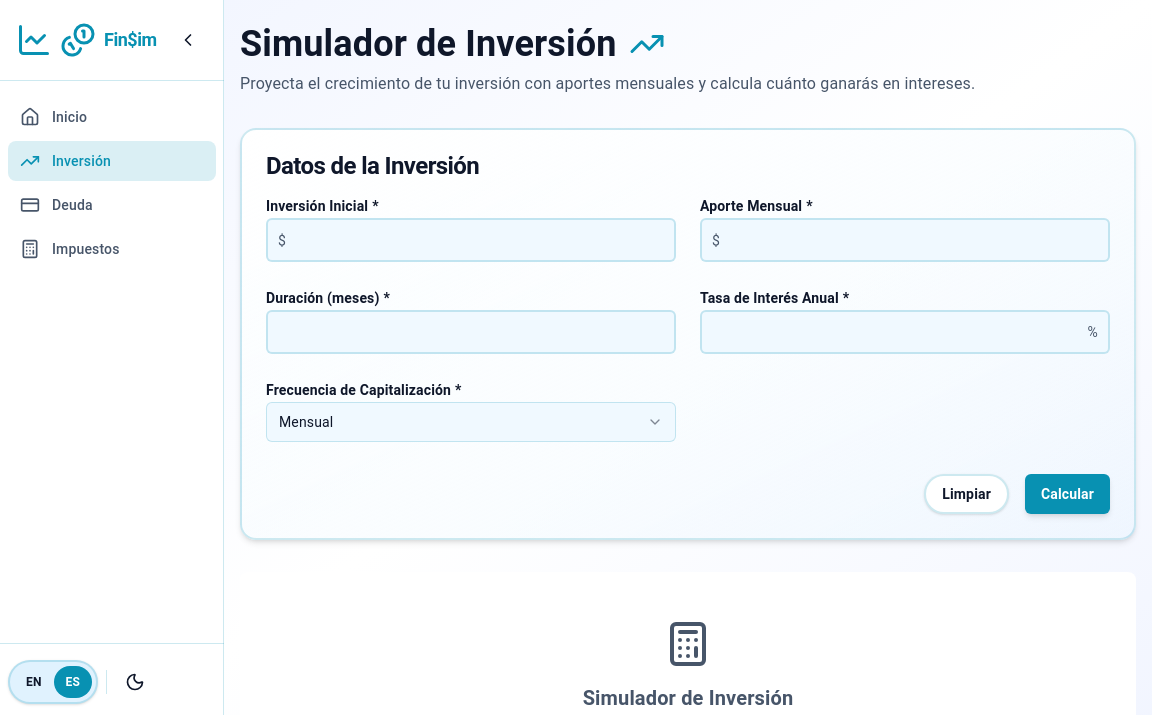
Scenario: Investment Flow Integration › calculates investment projection when user fills form and clicks calculate
The width and height of the screenshot is (1152, 715).
Expected: the 1st heading "Simulador de Inversión" is shown, [240,24,664,65]
Type "10000" into the number field labelled "Inversión Inicial*". click: (471,240)
box: [266,218,676,262]
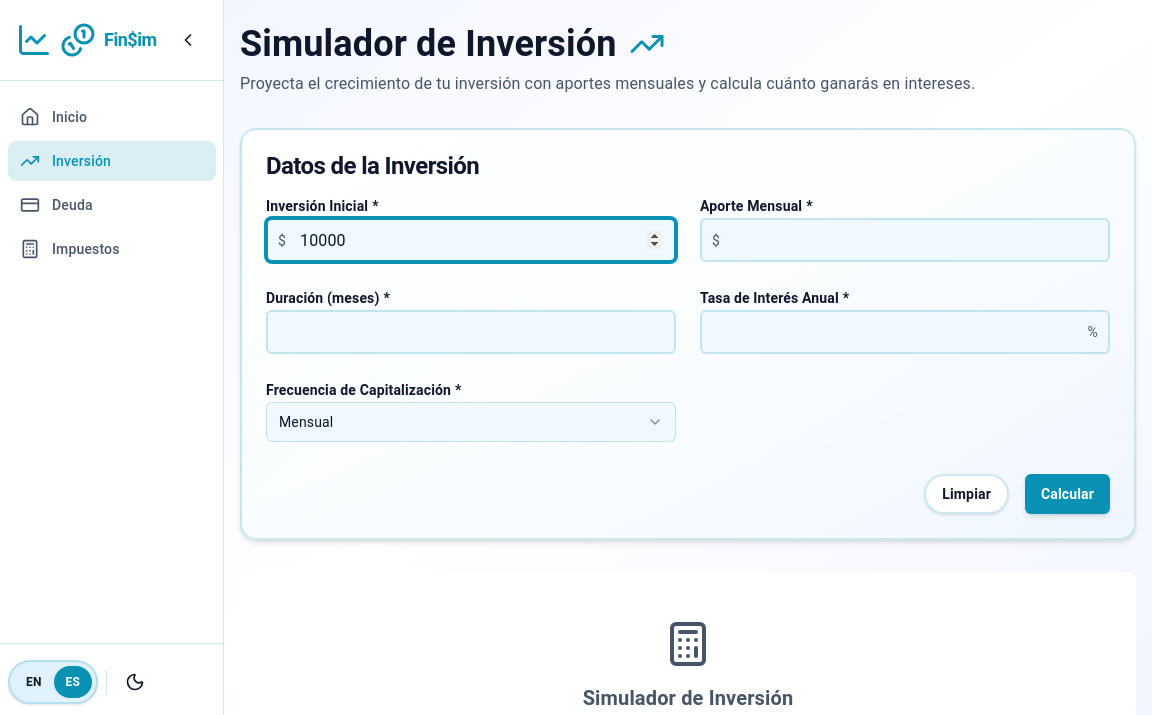
Type "500" into the number field labelled "Aporte Mensual*". click: (905,240)
box: [700,218,1110,262]
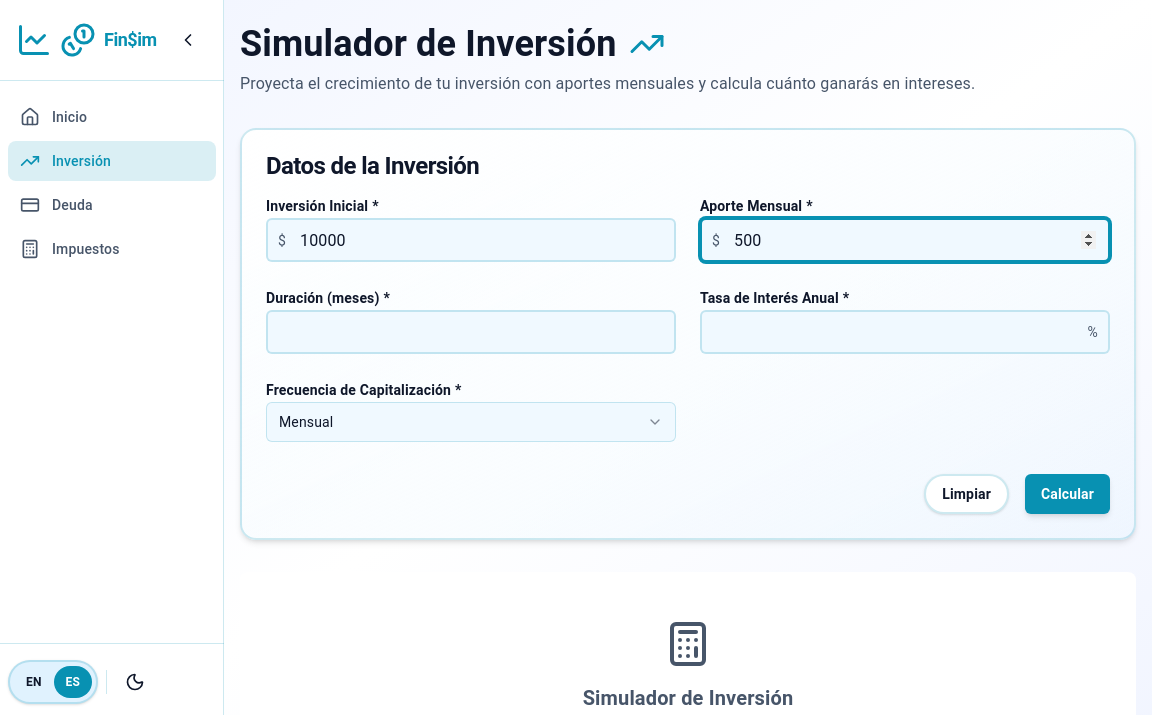
Type "60" into the number field labelled "Duración (meses)*". click: (471,332)
box: [266,310,676,354]
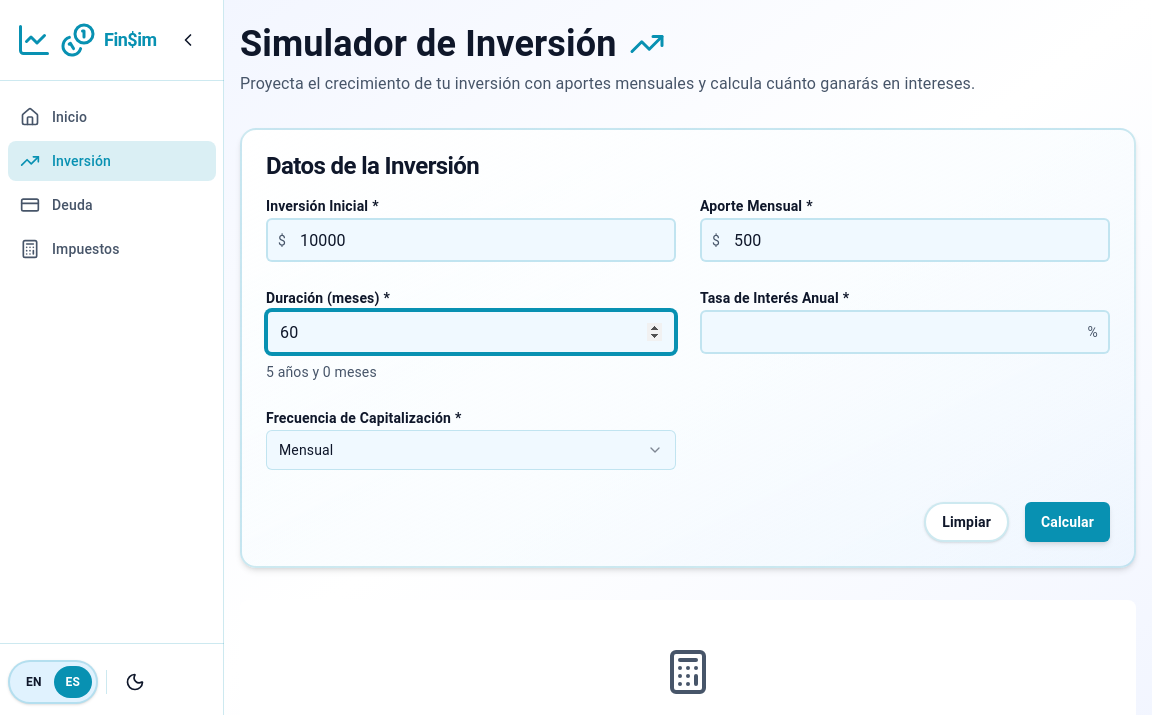
Type "7" into the number field labelled "Tasa de Interés Anual*". click: (905,332)
box: [700,310,1110,354]
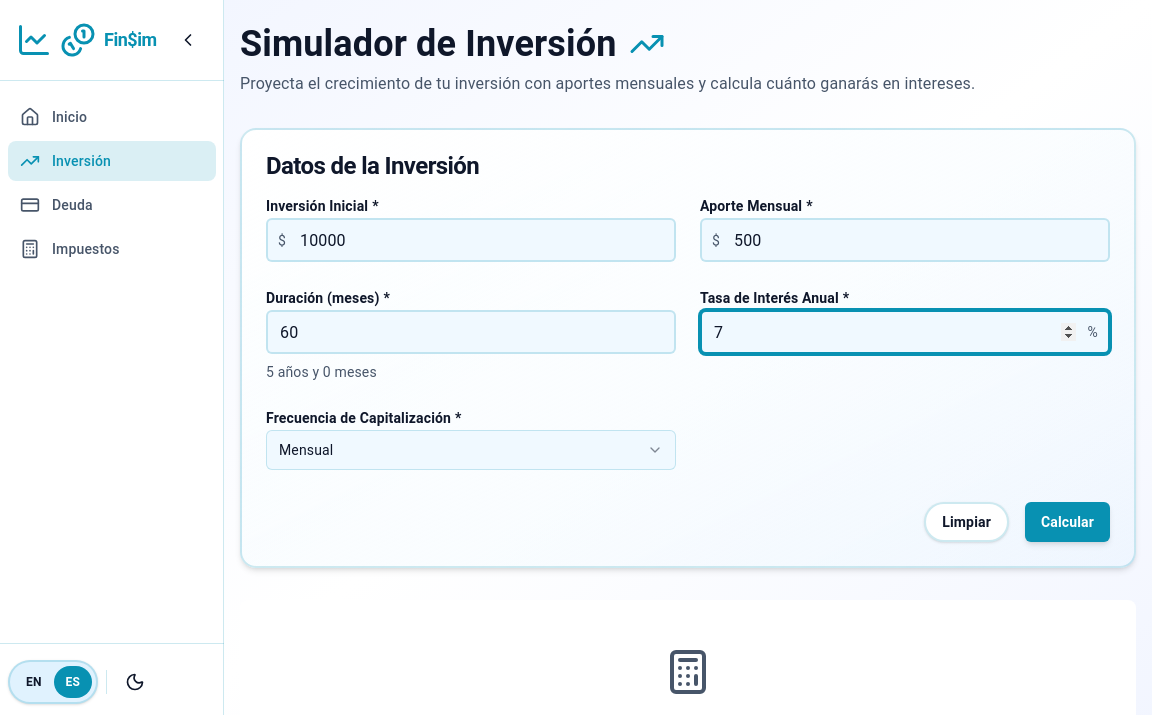
Click the button "Calcular". click: (1067,522)
box: [1025,502,1110,542]
(page scrolled)
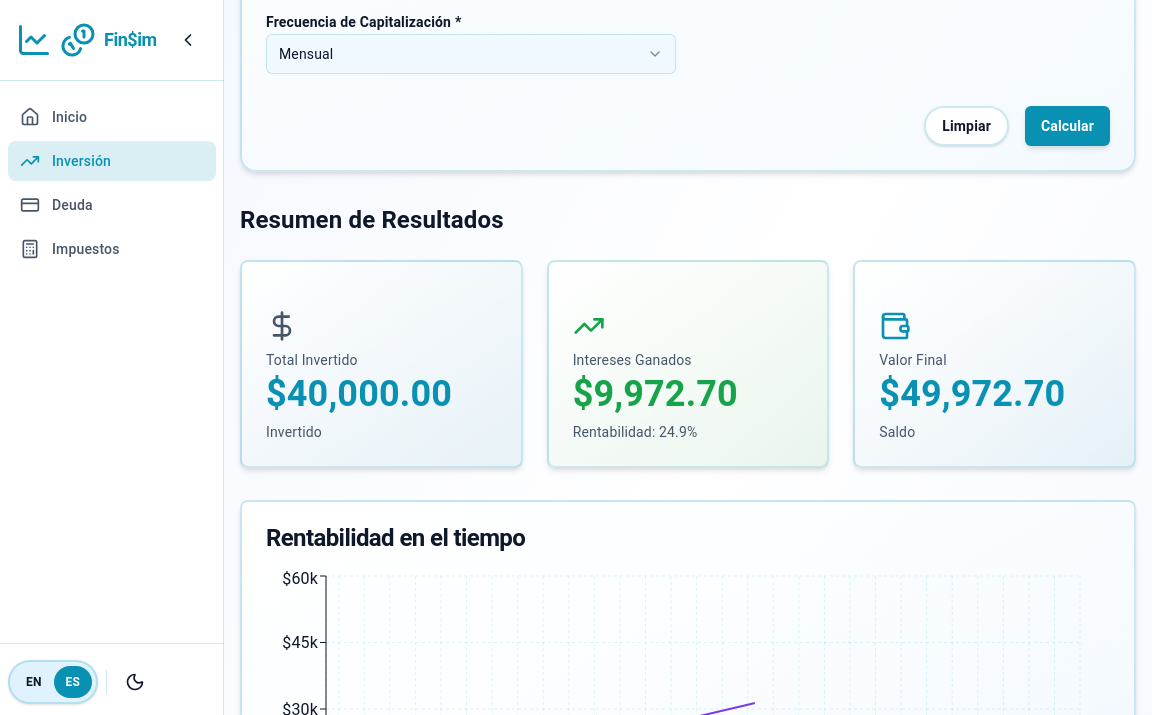
Expected: the heading "Resumen de Resultados" is shown, [240,206,504,234]
Expected: the text "Total Invertido" is shown, [266,352,358,368]
Expected: the text "Valor Final" is shown, [879,352,947,368]
